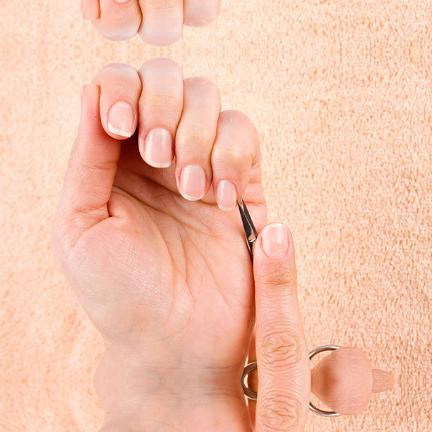Nail: (144, 127, 172, 167), (179, 164, 206, 200), (107, 100, 133, 137), (262, 223, 289, 258), (216, 179, 237, 210), (115, 0, 128, 2)
